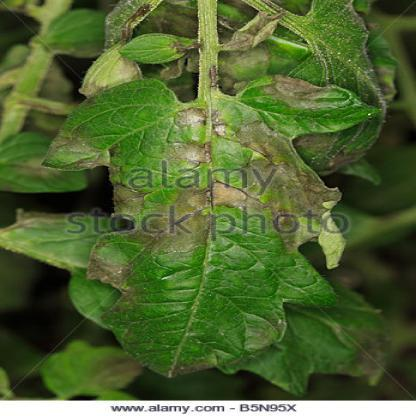Tomato leaf mosaic virus: (43, 62, 382, 390)
